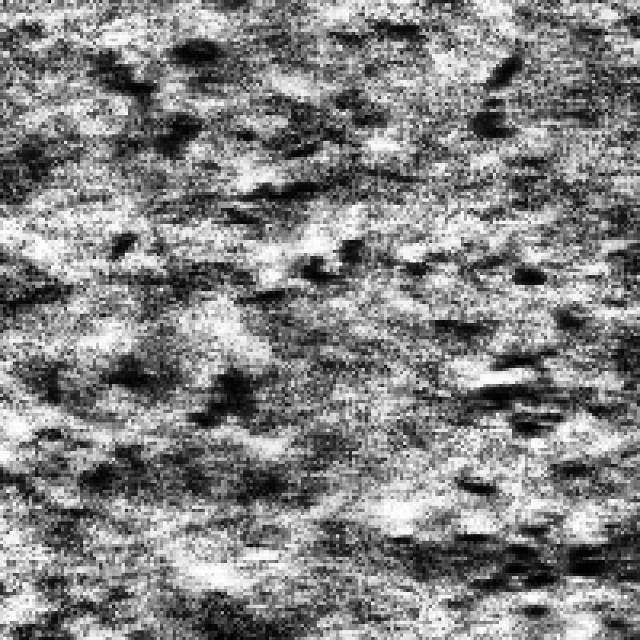Crazing: (426, 262, 618, 637), (185, 157, 342, 445)
